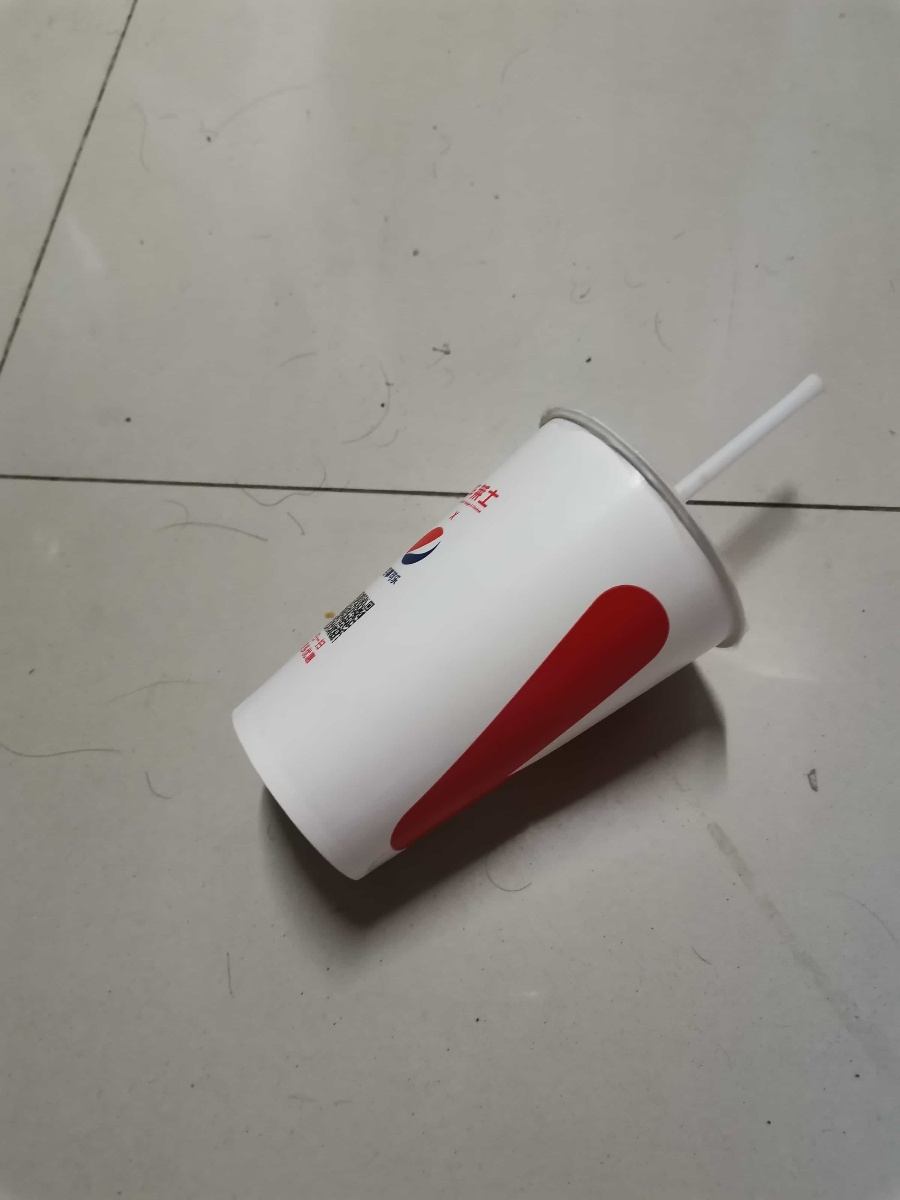cup: (216, 398, 761, 895)
